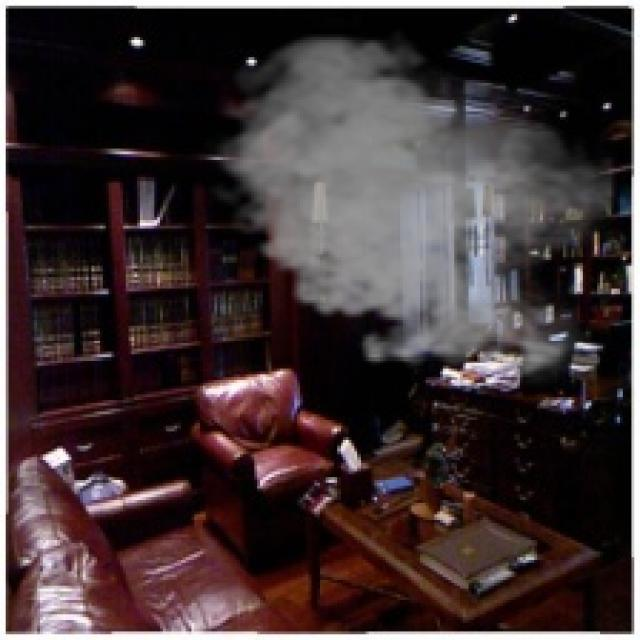Smoke: (202, 26, 618, 388)
